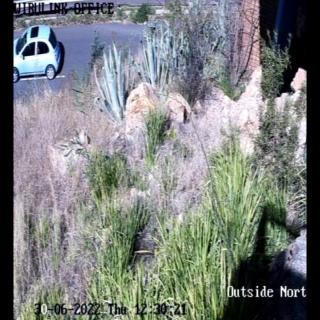car: (14, 24, 62, 80)
